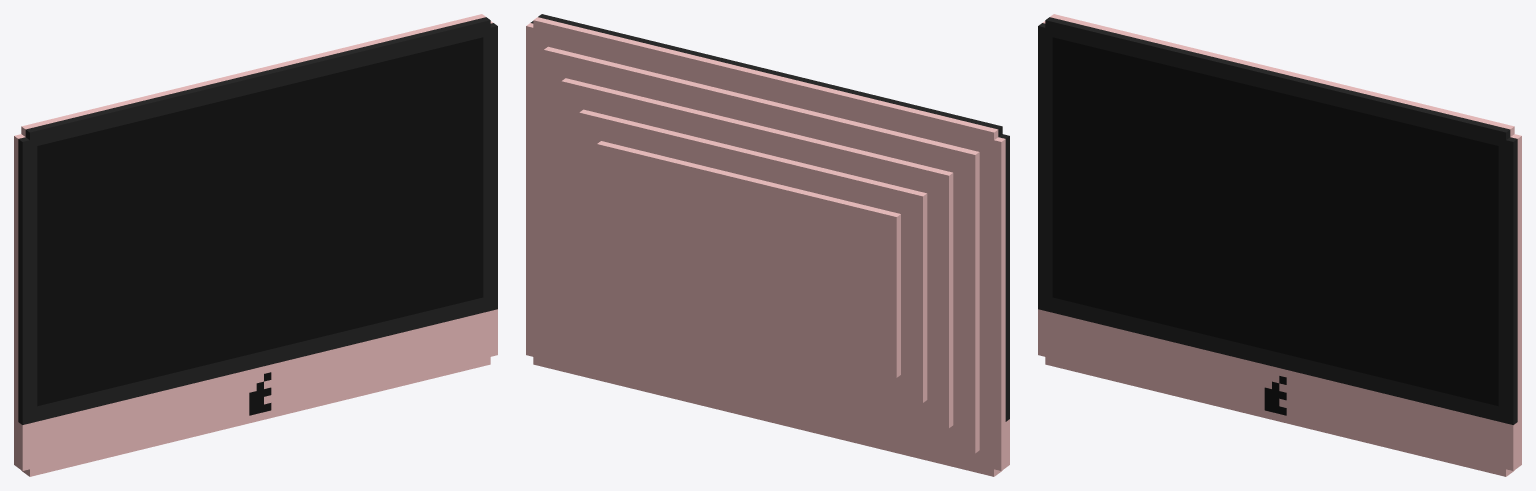
The model's file is imac_screen.obj.
The picture shows the model from 3 angles, left to right: view 1: azimuth 30°, elevation 25°; view 2: azimuth 150°, elevation 25°; view 3: azimuth 330°, elevation 25°; orthographic projection.
Bounding box in the file's own units: 65 × 45 × 6.
Materials: 1 (1 with a texture image).
